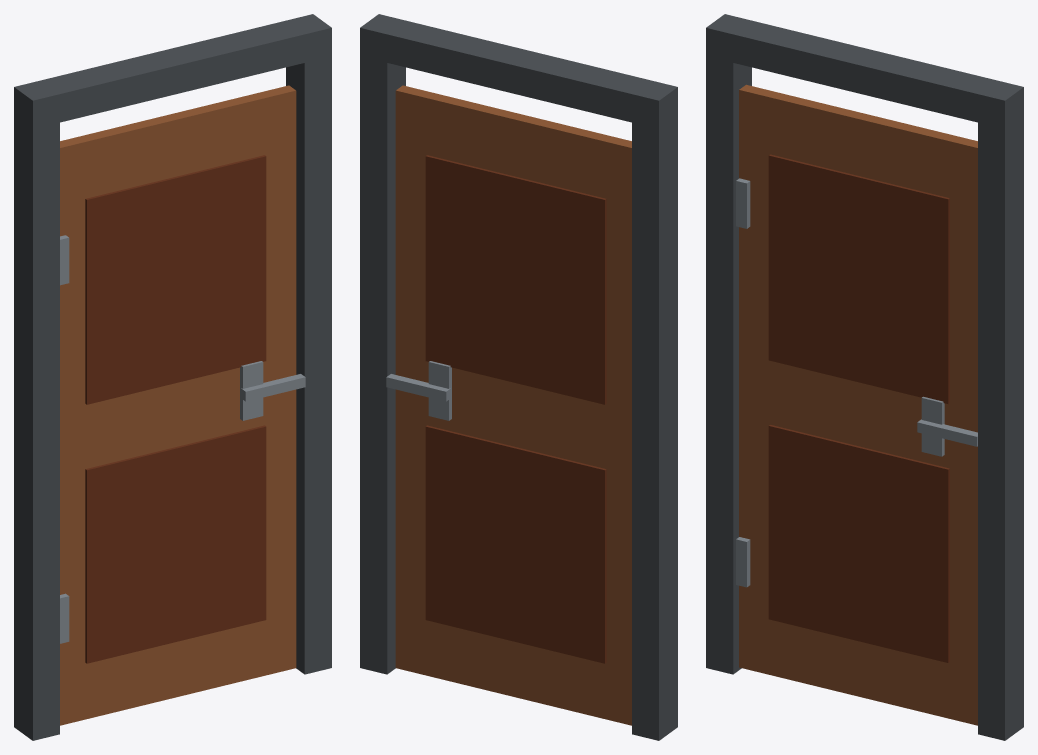
File: godot_door.glb
3 views of the same model, side by side, from view 1: azimuth 30°, elevation 25°; view 2: azimuth 150°, elevation 25°; view 3: azimuth 330°, elevation 25° (orthographic).
Visible parts, largest first — view 1: DoorLeaf, Panel_Top_Back, Panel_Bottom_Back, Frame_Left, Frame_Right, Frame_Top, Handle_Plate_Back, Handle_Lever_Back; view 2: DoorLeaf, Panel_Top_Front, Panel_Bottom_Front, Frame_Left, Frame_Right, Frame_Top, Handle_Plate_Front, Handle_Lever_Front; view 3: DoorLeaf, Panel_Top_Back, Panel_Bottom_Back, Frame_Right, Frame_Left, Frame_Top, Handle_Plate_Back, Handle_Lever_Back, Hinge_2, Hinge_1.
Part boxes in pixels (x1,y1,x2,y2): DoorLeaf: (60,85,296,725); Panel_Top_Back: (85,155,266,404); Panel_Bottom_Back: (85,425,266,663); Frame_Left: (14,115,59,740); Frame_Right: (286,56,331,674); Frame_Top: (14,14,331,128); Handle_Plate_Back: (240,361,263,420); Handle_Lever_Back: (241,374,305,401); DoorLeaf: (395,85,631,725); Panel_Top_Front: (425,155,606,404); Panel_Bottom_Front: (425,425,606,663); Frame_Left: (632,115,677,740); Frame_Right: (360,56,405,674); Frame_Top: (360,14,677,128); Handle_Plate_Front: (428,361,451,420); Handle_Lever_Front: (386,374,450,401); DoorLeaf: (739,84,977,725); Panel_Top_Back: (768,154,949,403); Panel_Bottom_Back: (768,425,949,662); Frame_Right: (978,115,1023,740); Frame_Left: (706,56,751,674); Frame_Top: (706,14,1023,128); Handle_Plate_Back: (921,396,944,456); Handle_Lever_Back: (917,419,977,446); Hinge_2: (736,178,750,228); Hinge_1: (736,537,750,587).
Size of the model in its own units: 1.1 by 2.25 by 0.131.
